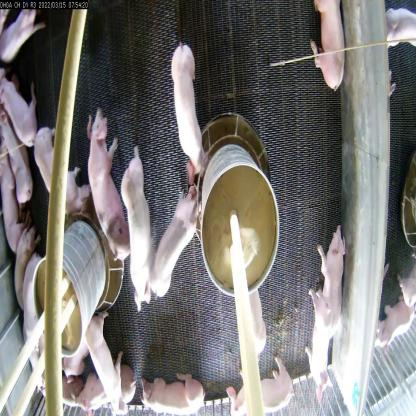Pig: (153, 186, 212, 295), (114, 156, 157, 300), (33, 129, 90, 231), (308, 233, 357, 340), (68, 342, 138, 415), (303, 0, 350, 108), (162, 40, 200, 169), (222, 362, 313, 414), (134, 348, 204, 415), (86, 117, 121, 248), (0, 63, 44, 164), (84, 298, 124, 400), (300, 290, 340, 380), (3, 113, 31, 211), (3, 167, 18, 259)
